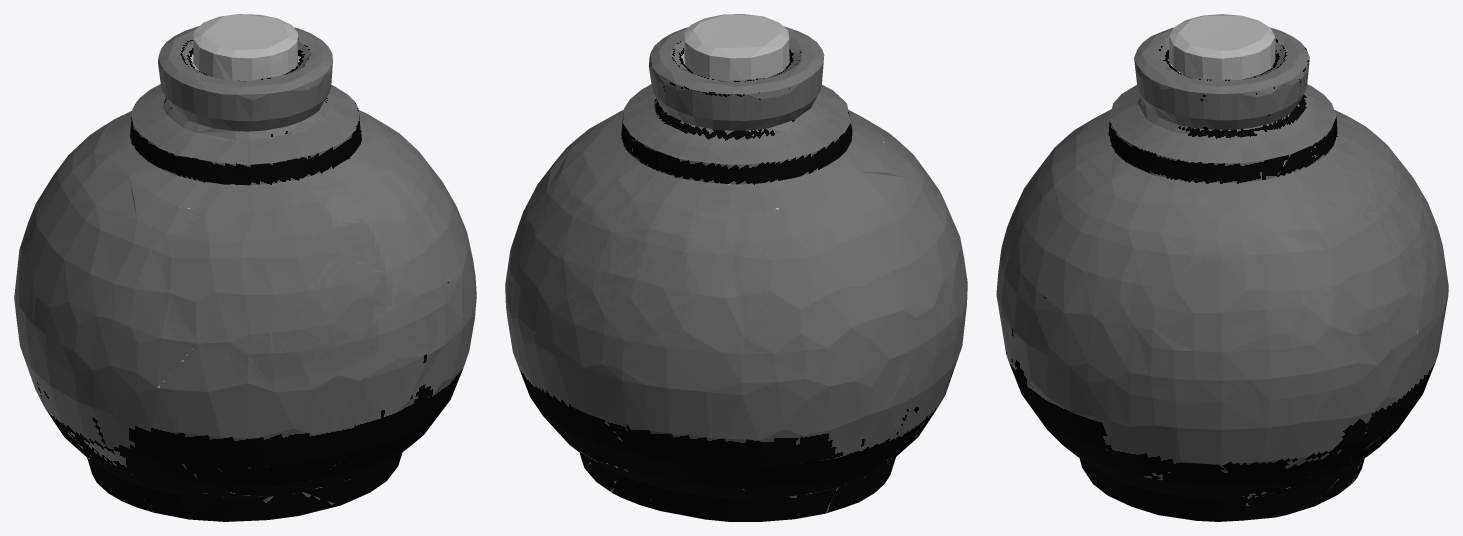
The picture shows the model from 3 angles, left to right: view 1: azimuth 30°, elevation 25°; view 2: azimuth 150°, elevation 25°; view 3: azimuth 270°, elevation 25°; orthographic projection.
Parts seen in each view (by area): view 1: OBJ08c; view 2: OBJ08c; view 3: OBJ08c.
Boxes of the visible parts, x1,y1,x2,y2 form: OBJ08c: (14, 14, 476, 521); OBJ08c: (505, 14, 967, 521); OBJ08c: (996, 14, 1448, 521).
Bounding box in the file's own units: 0.2824 × 0.2946 × 0.2793.
Materials: 1 (1 with a texture image).
